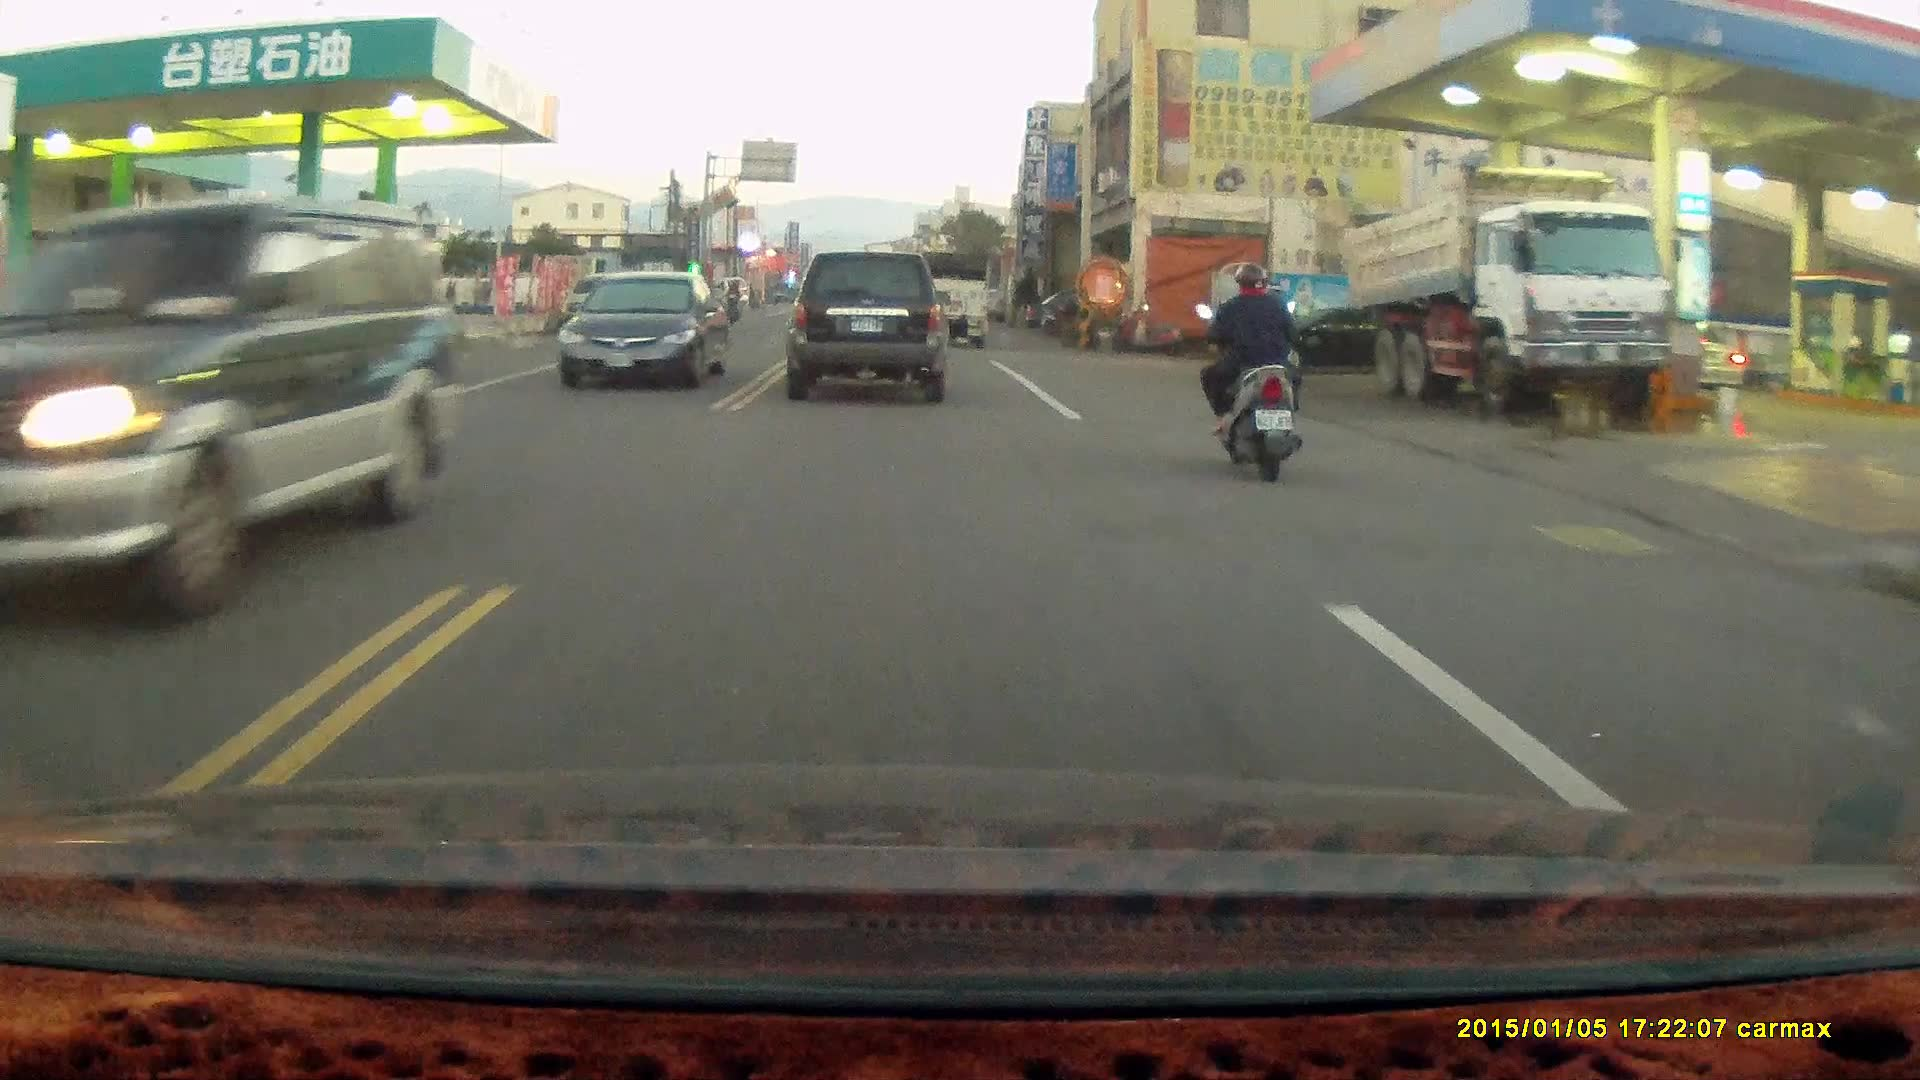rider: (1194, 261, 1304, 484)
vehicle: (1, 196, 467, 629), (1347, 165, 1672, 406), (793, 248, 953, 401), (560, 268, 732, 393), (900, 251, 993, 349)
